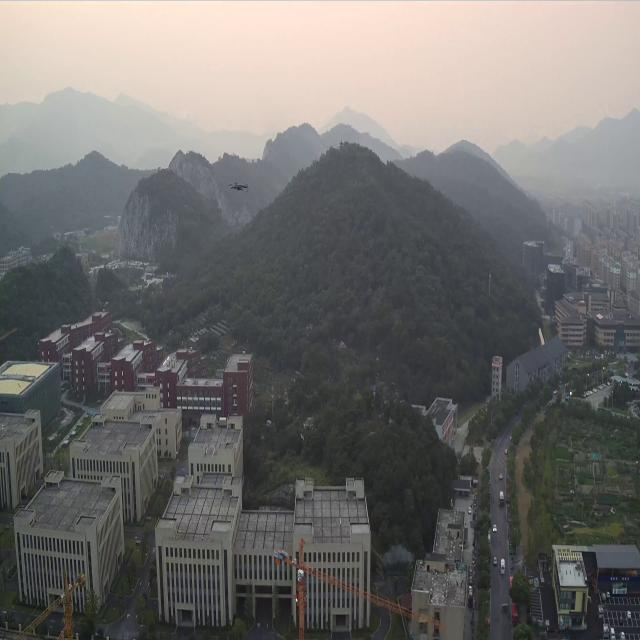UAV: (229, 182, 249, 194)
